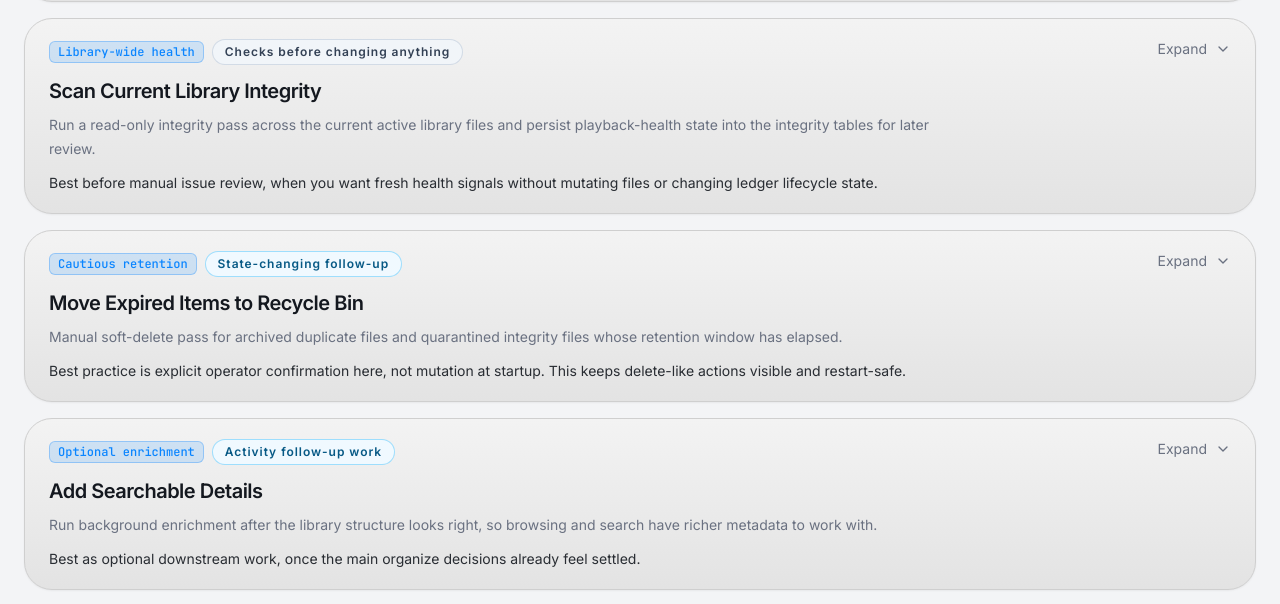
Test: Import page › shows permanent delete readiness and allows purge confirmation
Later steps or results of the test are not shown.
(page scrolled)
Expected: the heading "Move Expired Items to Recycle Bin" is shown, [49, 290, 363, 314]
Click the button "Move Expired Items to Recycle Bin" at (640, 316), box [25, 230, 1255, 400]
(page scrolled)
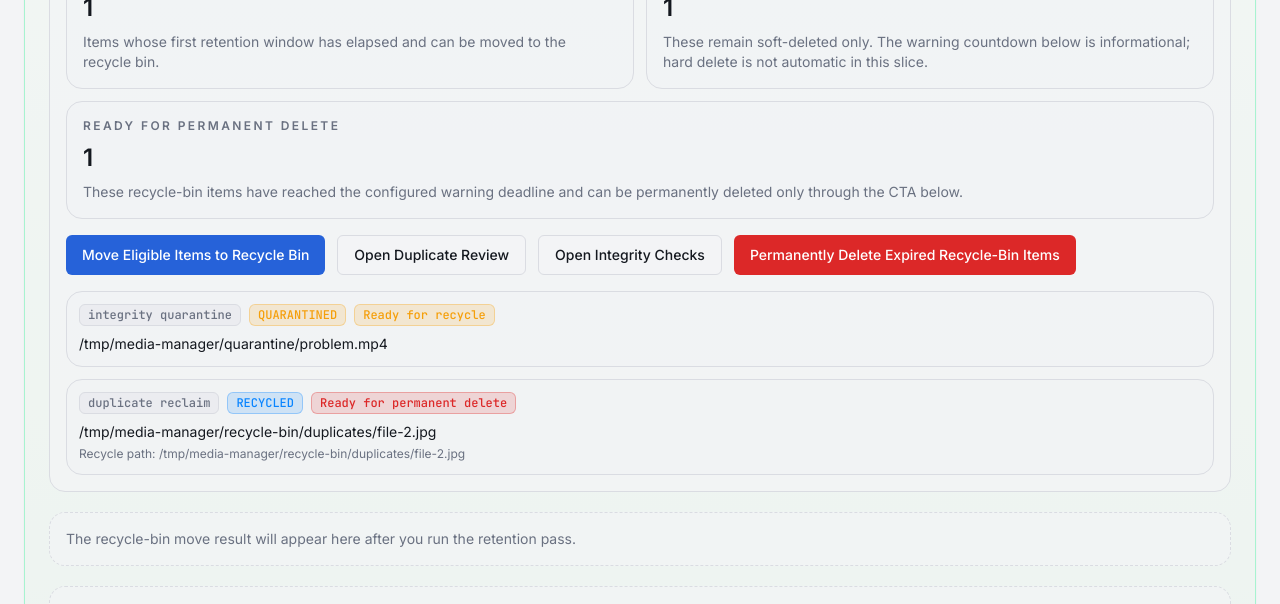
Result: the text "Ready for permanent delete" below "Ready now" is shown at [83, 118, 340, 132]
